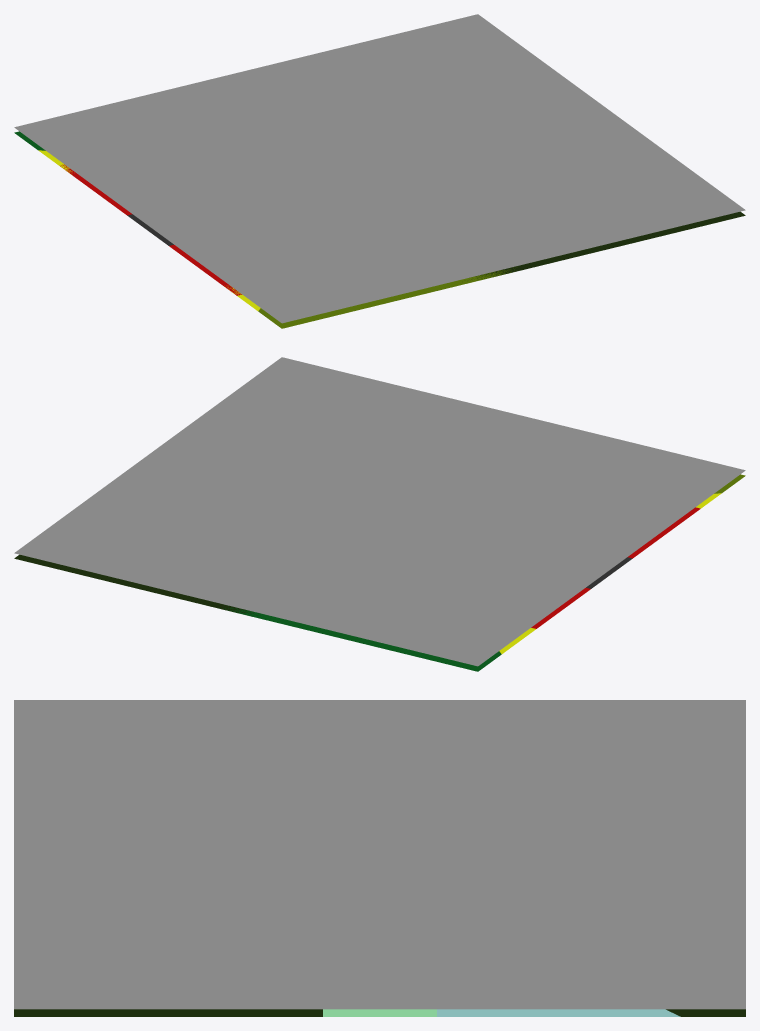
Rendered from RT LINE V01 T03 SNAP.FBX.
3 views of the same model, one above another, from view 1: azimuth 30°, elevation 25°; view 2: azimuth 150°, elevation 25°; view 3: azimuth 270°, elevation 25° (orthographic). The views are drawn at different scales.
Visible parts, largest first — view 1: RT LINE V01 T03 SNAP, RT LINE V01 T03, RT LINE V01 NAV Grass.Conc, RT LINE V01 NAV ColAsp C03, RT LINE V01 NAV ColAsp C01-C02; view 2: RT LINE V01 T03 SNAP, RT LINE V01 NAV Grass, RT LINE V01 T03; view 3: RT LINE V01 T03 SNAP, RT LINE V01 T03.
Part boxes in pixels (x1=…): RT LINE V01 T03 SNAP: x1=14, y1=14, x2=745, y2=323; RT LINE V01 T03: x1=471, y1=211, x2=745, y2=279; RT LINE V01 NAV Grass.Conc: x1=258, y1=267, x2=514, y2=328; RT LINE V01 NAV ColAsp C03: x1=60, y1=164, x2=241, y2=295; RT LINE V01 NAV ColAsp C01-C02: x1=74, y1=175, x2=228, y2=285; RT LINE V01 T03 SNAP: x1=14, y1=357, x2=745, y2=666; RT LINE V01 NAV Grass: x1=223, y1=607, x2=501, y2=671; RT LINE V01 T03: x1=14, y1=554, x2=259, y2=618; RT LINE V01 T03 SNAP: x1=14, y1=700, x2=745, y2=1009; RT LINE V01 T03: x1=14, y1=1009, x2=745, y2=1016.
Size of the model in its own units: 90 by 1 by 90.
